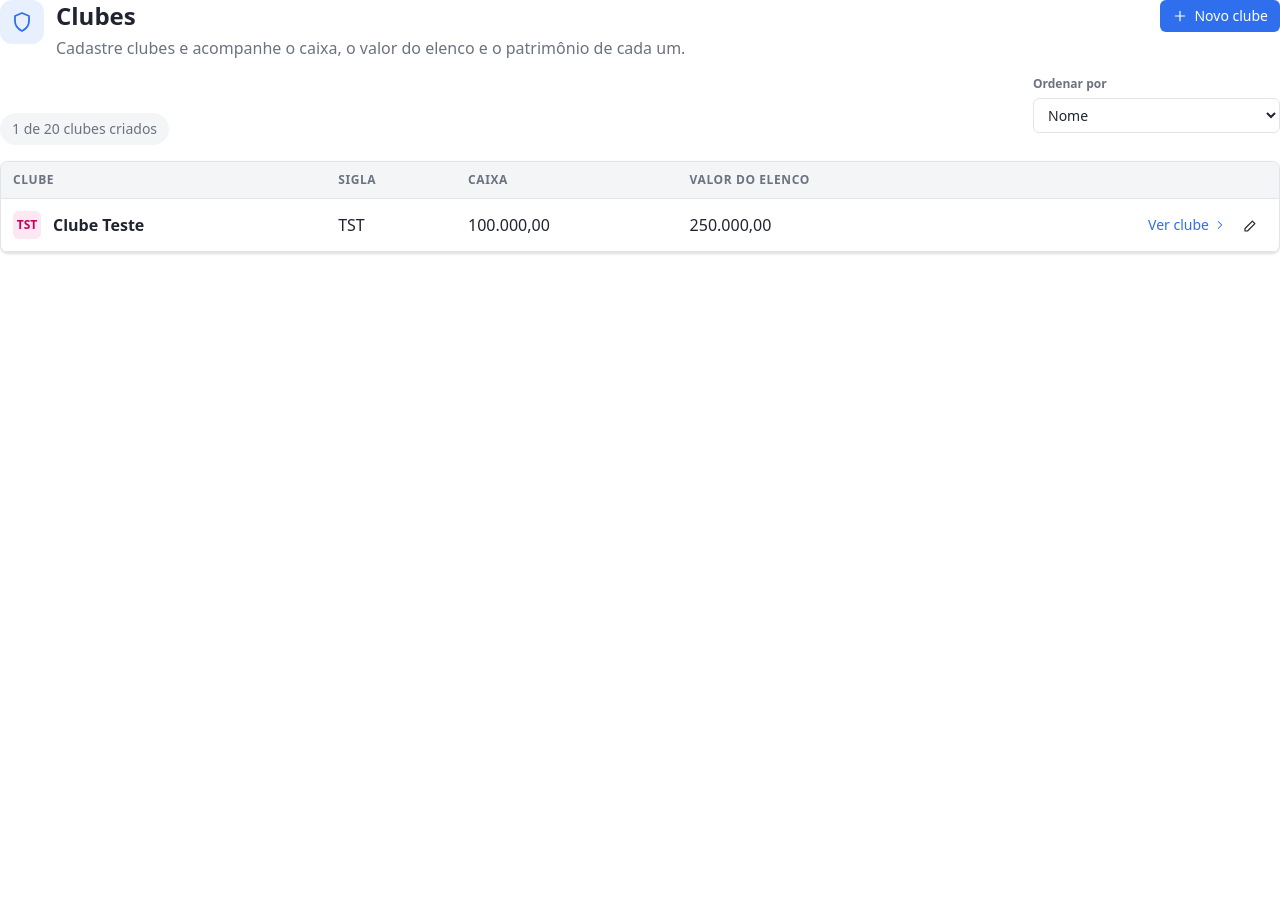
Test: ClubesPage › mostra message da API quando nome já existe ao editar
The image size is (1280, 900).
expect the text "Clube Teste" is shown: met, box top-left (53, 213), bottom-right (144, 237)
Click the button named "Editar": (1251, 225) top-left (1235, 209), bottom-right (1267, 241)
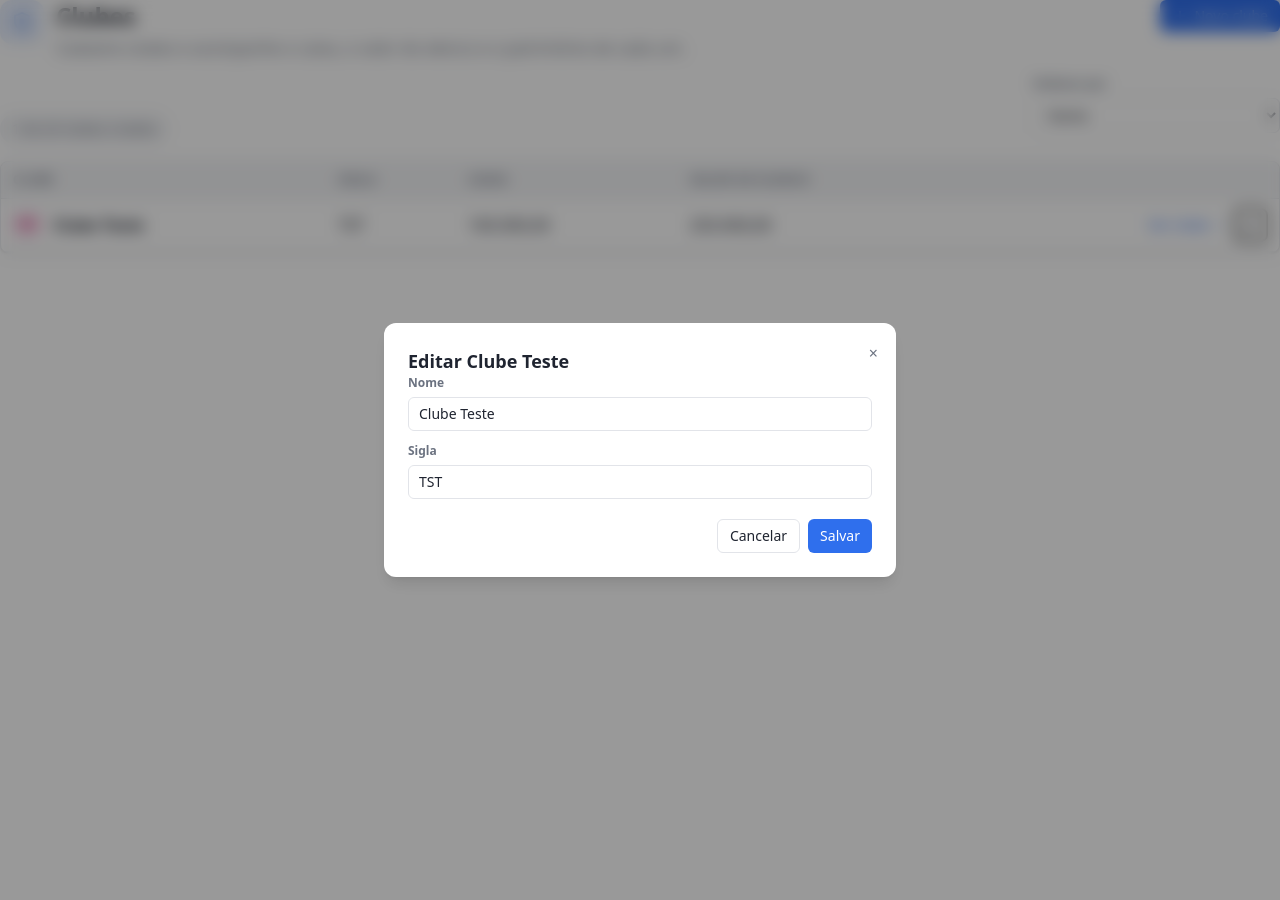
Replace the text in the field labelled "Nome" with "Outro Nome": (640, 414) top-left (408, 397), bottom-right (872, 431)
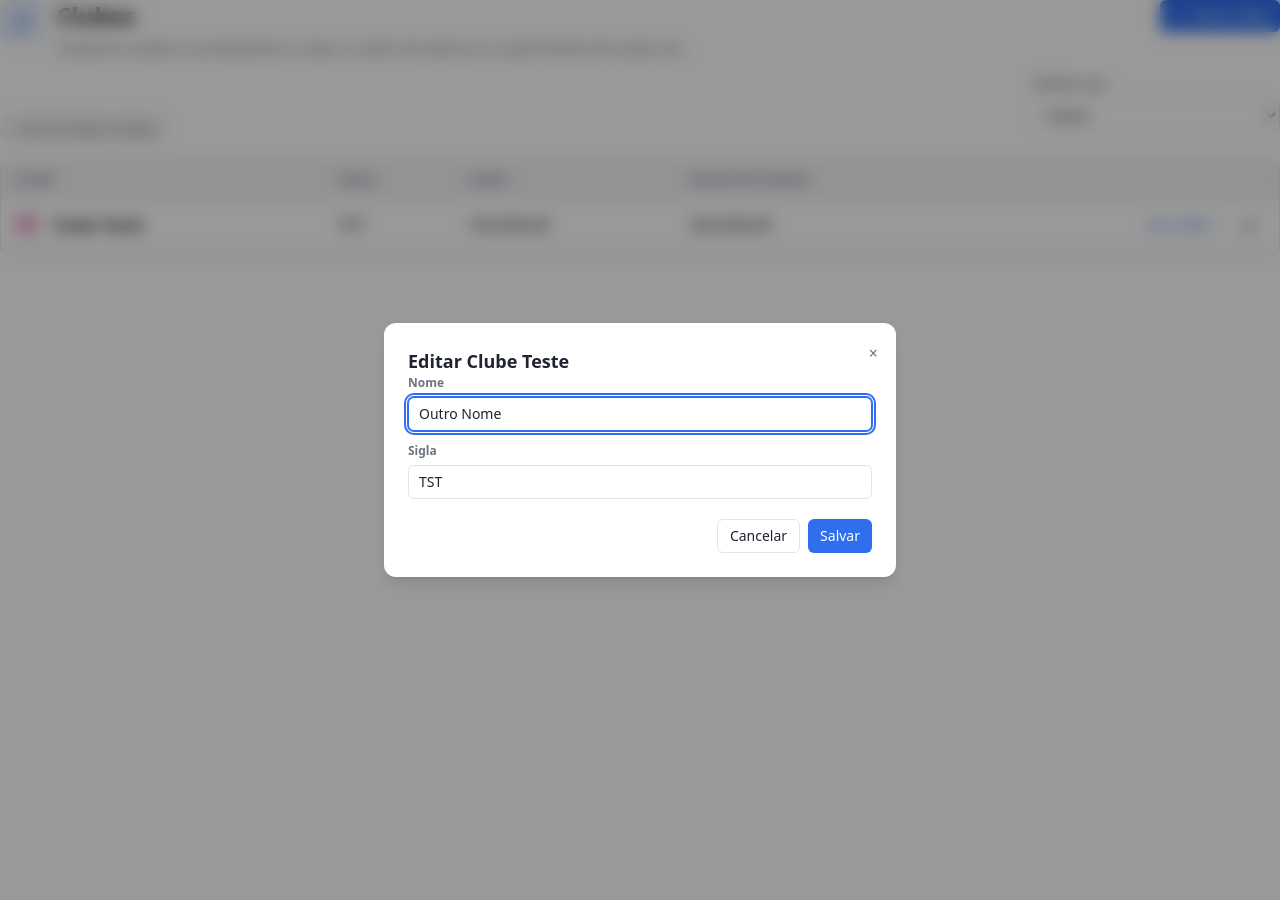
Click the button "Salvar": (840, 536) top-left (808, 519), bottom-right (872, 553)
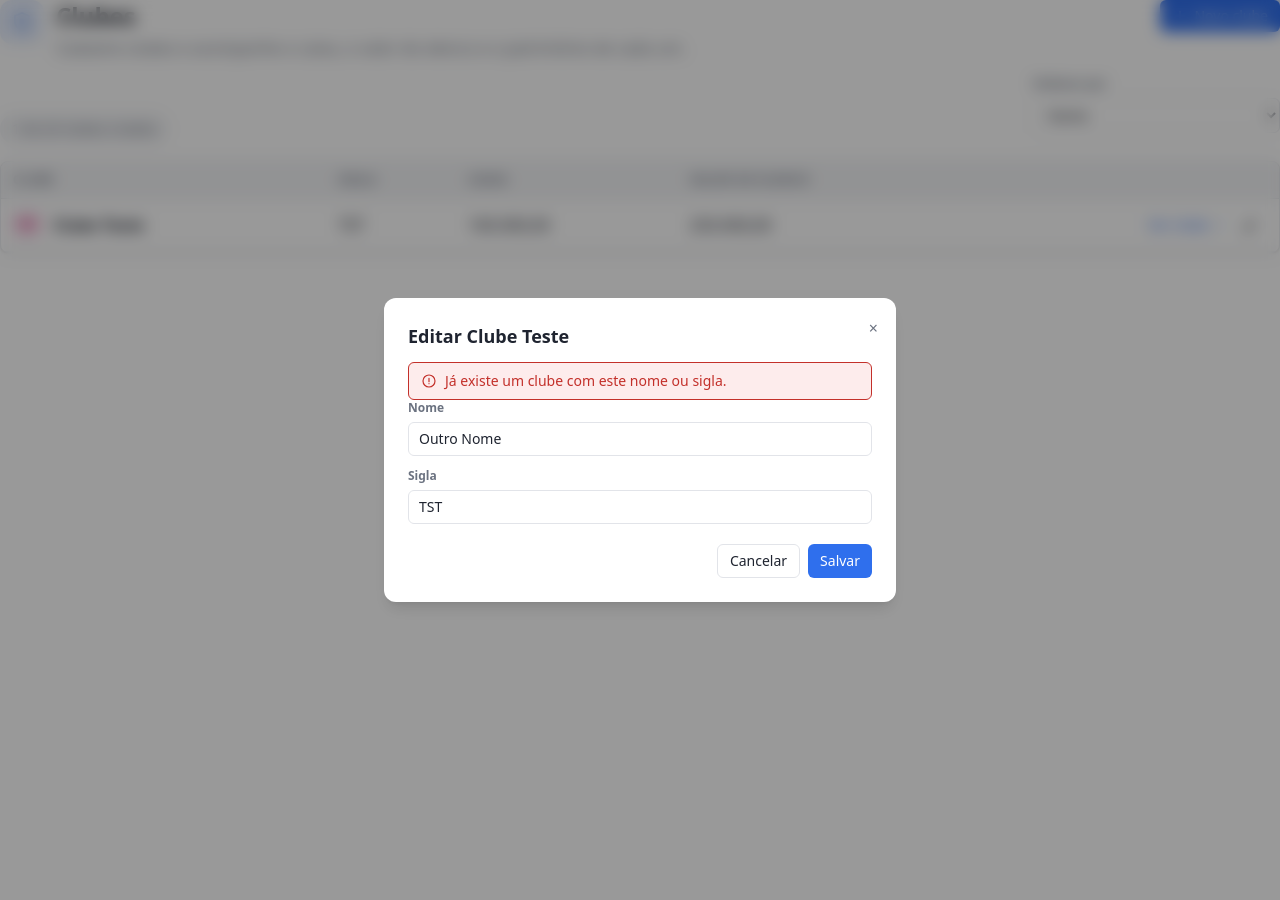
expect the text "Já existe um clube com este nome ou sigla." is shown: met, box top-left (408, 362), bottom-right (872, 400)
